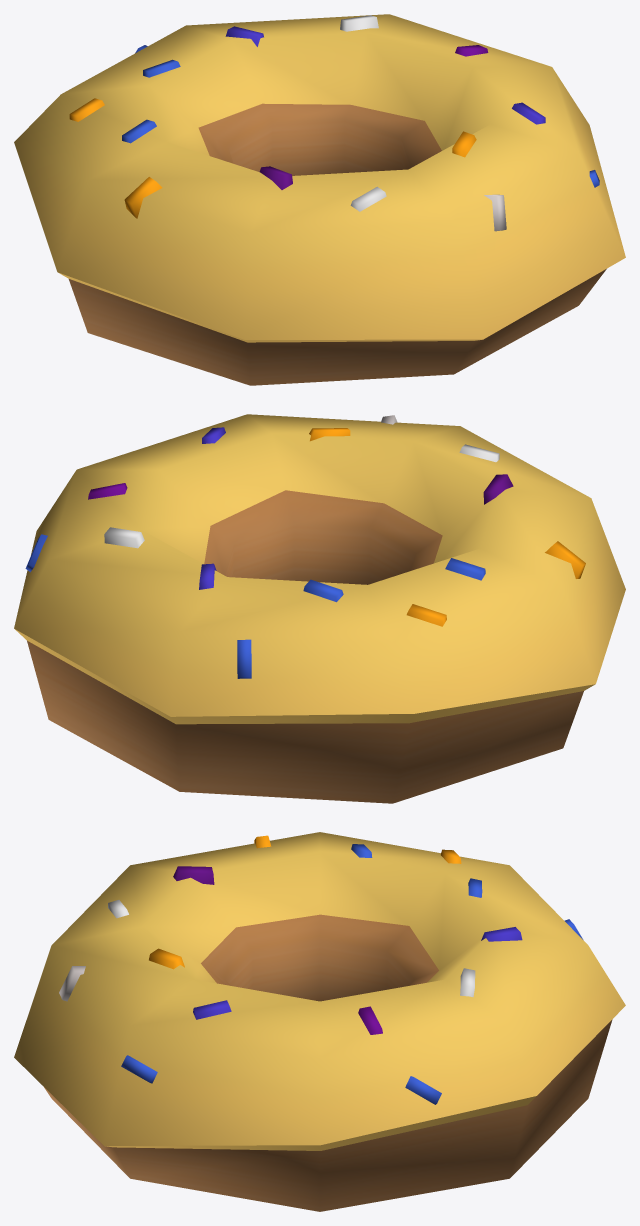
The model's file is Donat_1_B.glb.
3 views of the same model, one above another, from view 1: azimuth 30°, elevation 25°; view 2: azimuth 150°, elevation 25°; view 3: azimuth 270°, elevation 25° (orthographic). The views are drawn at different scales.
Parts seen in each view (by area): view 1: Donat_1_B; view 2: Donat_1_B; view 3: Donat_1_B.
Part boxes in pixels (x1,y1,x2,y2): Donat_1_B: (14, 14, 625, 385); Donat_1_B: (14, 414, 625, 803); Donat_1_B: (14, 832, 625, 1211).
Bounding box in the file's own units: 0.1629 × 0.0579 × 0.1617.
1 material, 1 textured.
